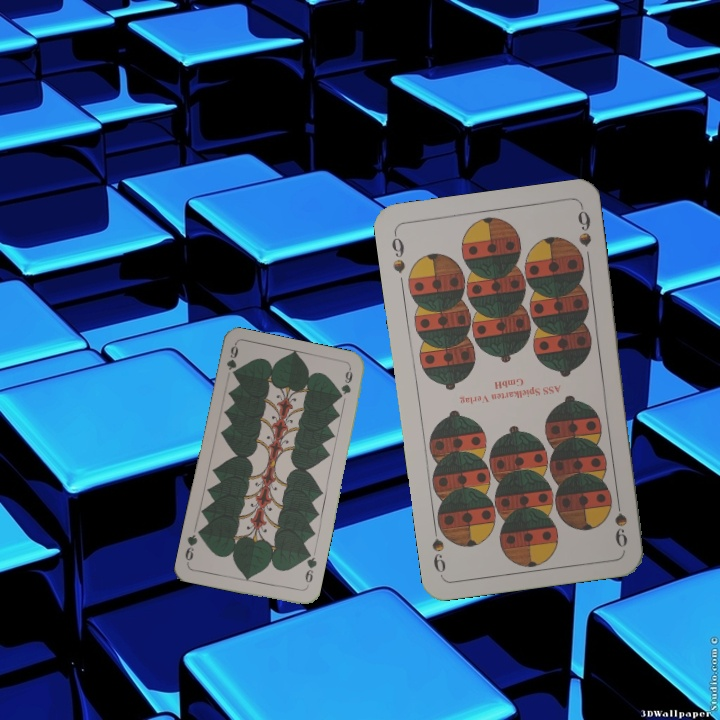G9: (301, 550, 319, 591), (223, 341, 241, 379)
S9: (611, 491, 630, 550), (387, 228, 408, 276)
